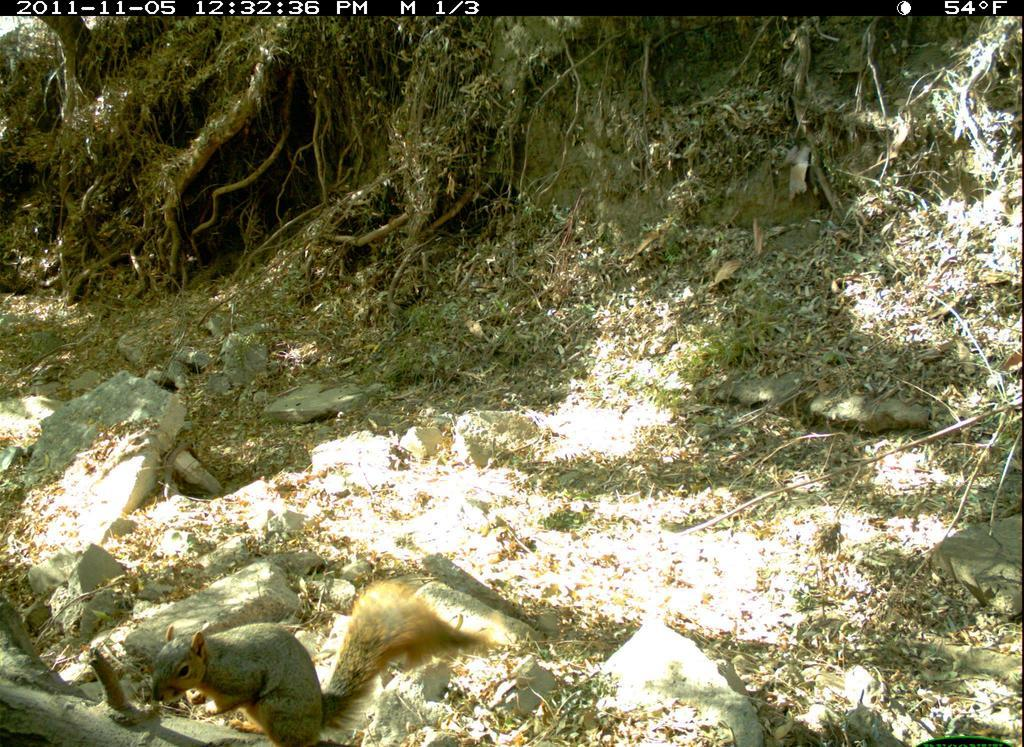squirrel: (134, 578, 489, 747)
